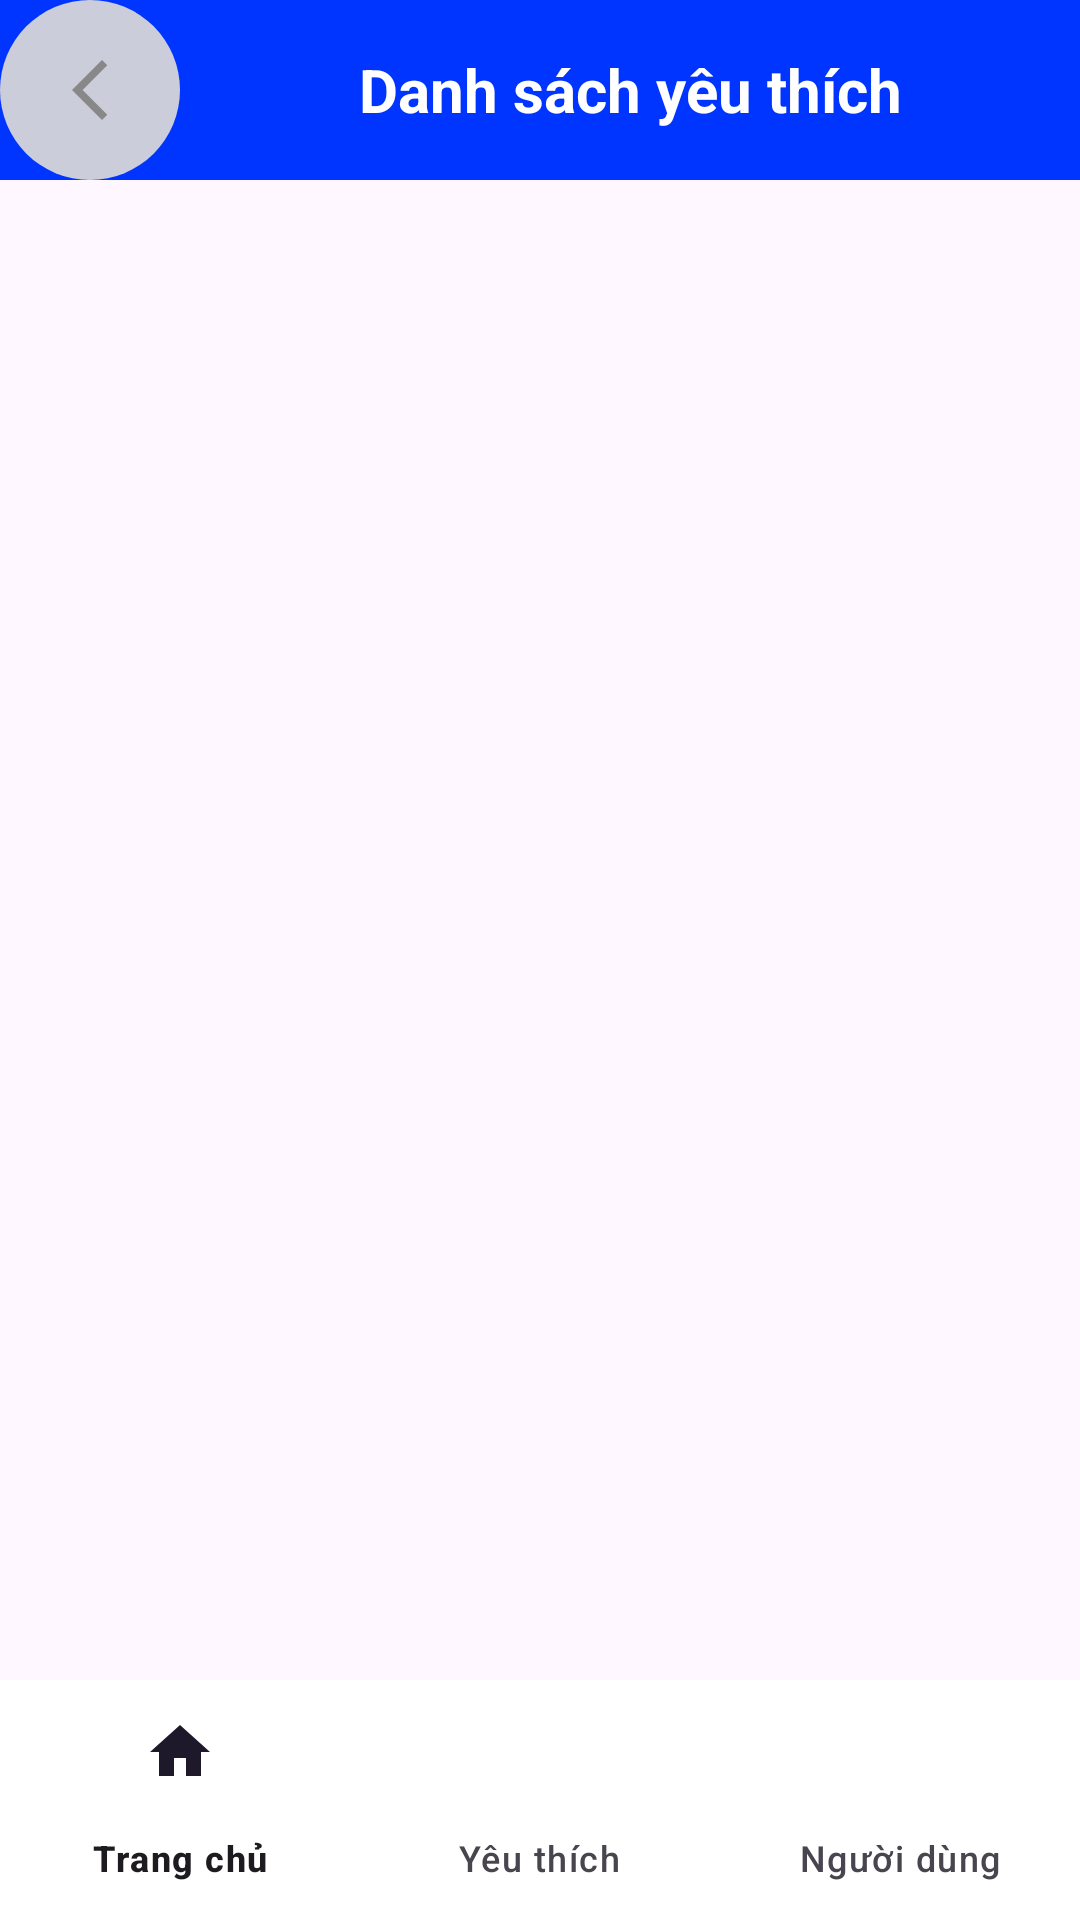

Point at icon controls on the screen. Image size 1080px x 1920px, points as point (x, y).
back: point (89, 90)
